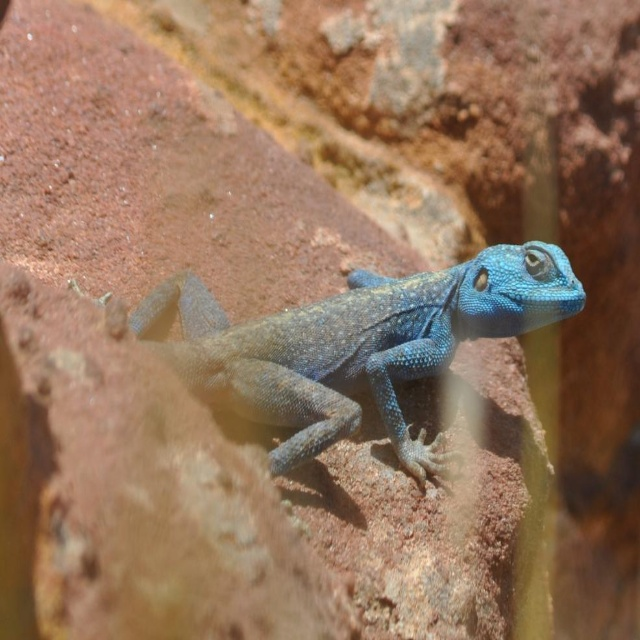Lizard: (80, 229, 591, 529)
